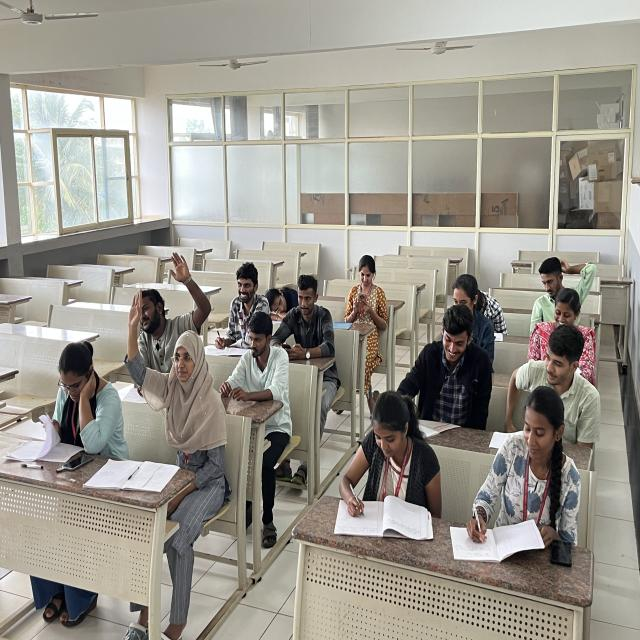Hand Rising: (125, 286, 227, 456), (116, 252, 206, 356)
Reading: (18, 339, 124, 464)
Sleeping: (266, 278, 305, 322)
Using Phone: (277, 272, 337, 356), (338, 254, 393, 322)
Writing: (465, 390, 561, 558), (336, 395, 442, 533), (211, 264, 269, 358)
